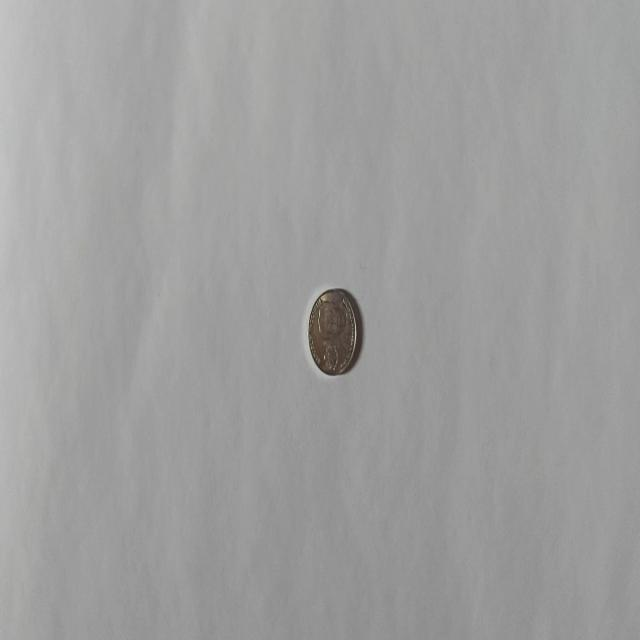seratus rupiah: (307, 287, 357, 376)
